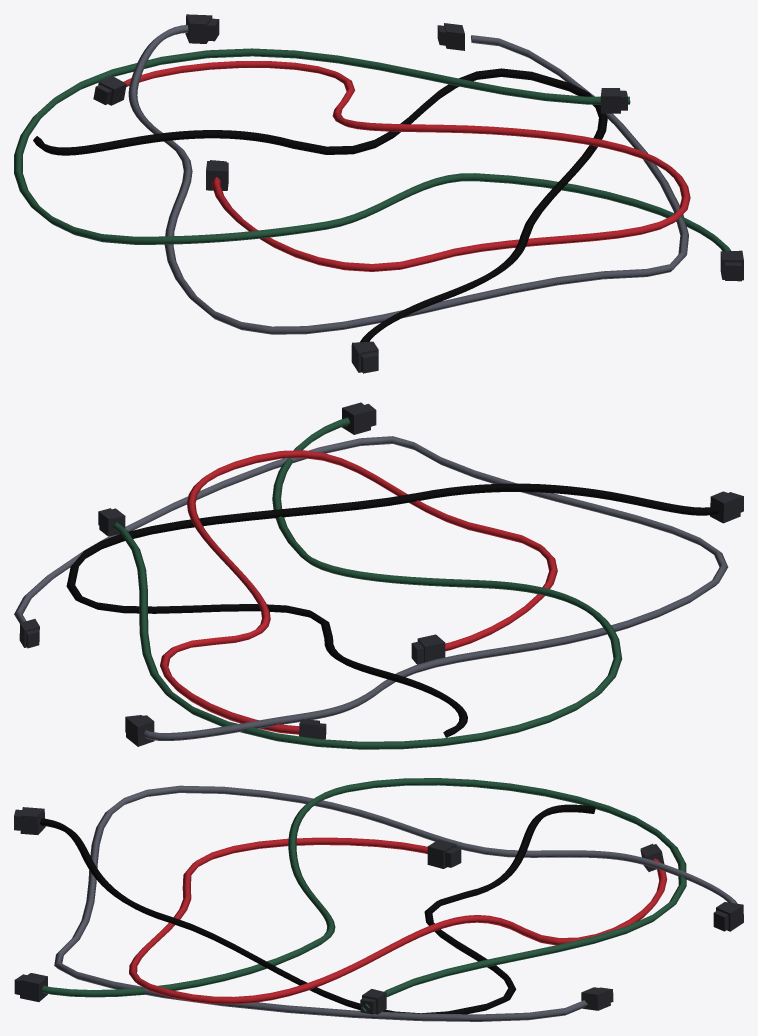
The model's file is Wires.fbx.
3 renders of one model, top to bottom at view 1: azimuth 30°, elevation 25°; view 2: azimuth 150°, elevation 25°; view 3: azimuth 270°, elevation 25°, orthographic. The views are drawn at different scales.
Visible parts, largest first — view 1: КриваяБезье.002; view 2: КриваяБезье.002; view 3: КриваяБезье.002.
Boxes of the visible parts, bbox=[...] form: КриваяБезье.002: bbox=[14, 14, 743, 373]; КриваяБезье.002: bbox=[14, 402, 743, 749]; КриваяБезье.002: bbox=[14, 778, 743, 1021].
Size of the model in its own units: 283 by 16.98 by 357.
